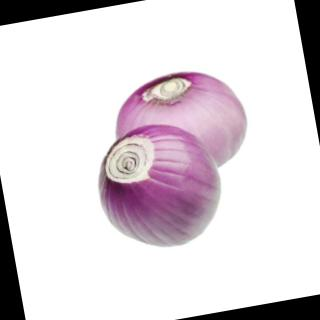Bawang Merah: (88, 114, 235, 262)
